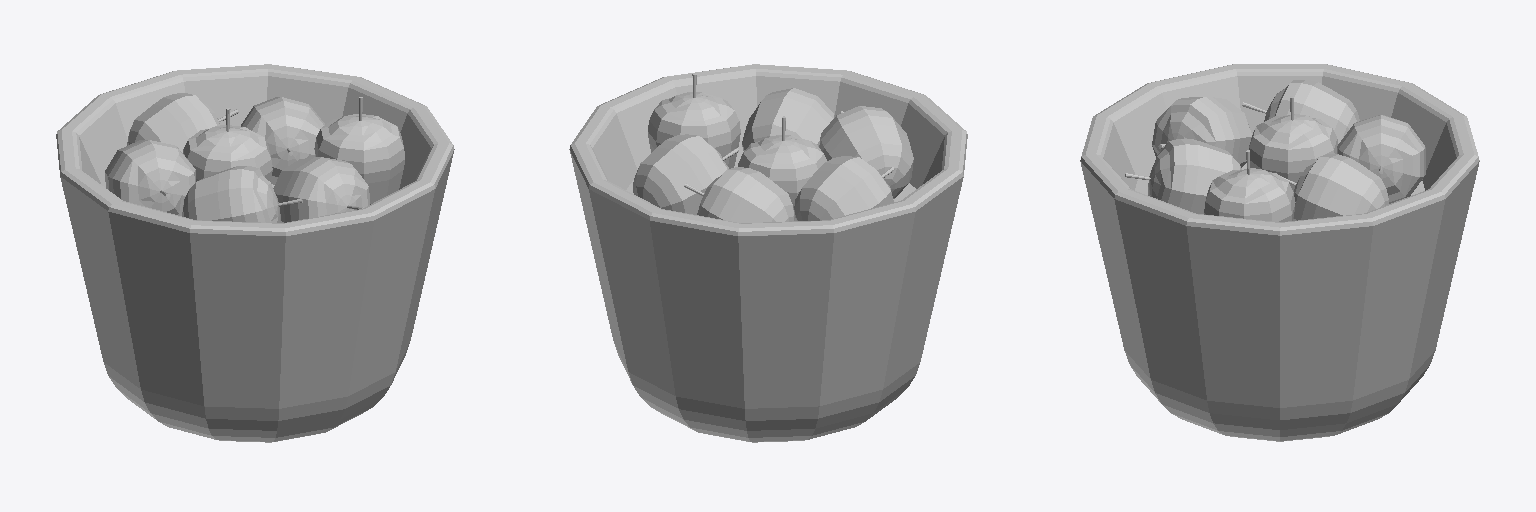
Rendered from Fruit_Basket.obj.
The picture shows the model from 3 angles: view 1: azimuth 30°, elevation 25°; view 2: azimuth 150°, elevation 25°; view 3: azimuth 270°, elevation 25°; orthographic projection.
Parts seen in each view (by area): view 1: Fruit_Basket; view 2: Fruit_Basket; view 3: Fruit_Basket.
Part boxes in pixels (bbox=[...]): Fruit_Basket: bbox=[56, 64, 454, 442]; Fruit_Basket: bbox=[569, 64, 967, 442]; Fruit_Basket: bbox=[1080, 64, 1479, 441].
Size of the model in its own units: 36.9 by 30.45 by 37.17.